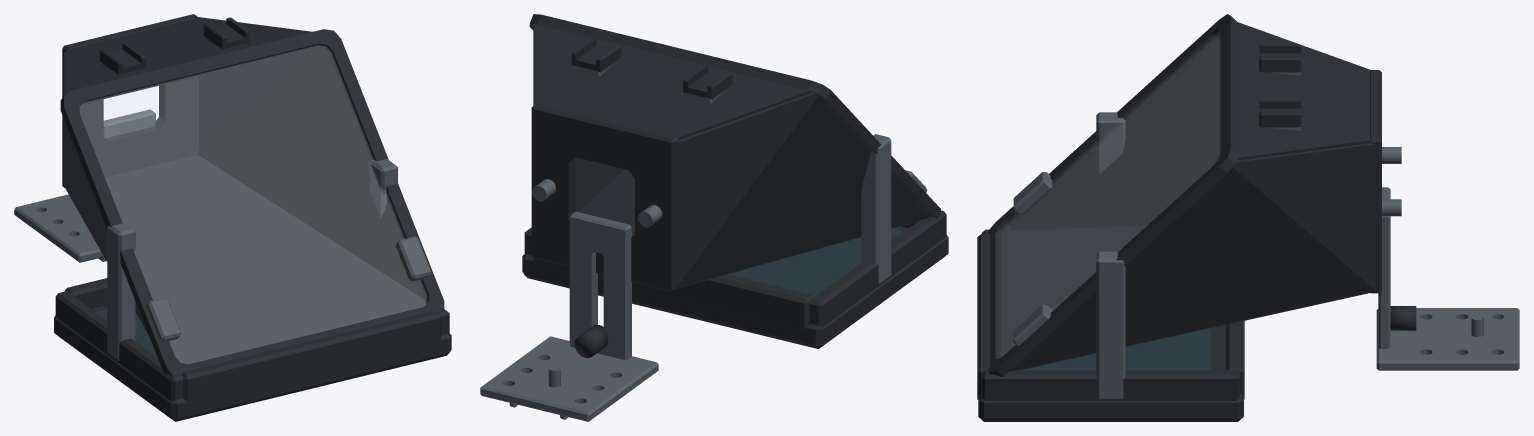
File: full.glb
3 renders of one model, left to right at view 1: azimuth 30°, elevation 25°; view 2: azimuth 150°, elevation 25°; view 3: azimuth 270°, elevation 25°, orthographic. The views are drawn at different scales.
Parts seen in each view (by area): view 1: Angled transparent panel, Hood lower return, Hood right wall, Angled glass border, Tray front rim, Rear camera aperture plate, Hood roof, Tray floor, Tray side rim -1, Camera shelf, Vertical tray support -1, Hood left wall (+8 smaller); view 2: Hood left wall, Rear camera aperture plate, Hood roof, Camera shelf, Slotted vertical camera bracket, Tray floor, Tray rear rim, Angled glass border, Tray side rim -1, Blank recessed screen, Vertical tray support -1, Hood lower return (+4 smaller); view 3: Hood right wall, Angled transparent panel, Hood left wall, Angled glass border, Hood roof, Hood lower return, Camera shelf, Tray side rim 1, Tray floor, Vertical tray support 1, Blank recessed screen, Tray front rim (+9 smaller).
Part boxes in pixels (bbox=[...]): Angled transparent panel: bbox=[80, 45, 426, 363]; Hood lower return: bbox=[105, 155, 425, 364]; Hood right wall: bbox=[198, 47, 425, 299]; Angled glass border: bbox=[60, 29, 444, 376]; Tray front rim: bbox=[182, 311, 441, 405]; Rear camera aperture plate: bbox=[62, 14, 198, 187]; Hood roof: bbox=[66, 17, 312, 93]; Tray floor: bbox=[54, 305, 451, 421]; Tray side rim -1: bbox=[55, 291, 183, 401]; Camera shelf: bbox=[14, 194, 103, 262]; Vertical tray support -1: bbox=[107, 221, 135, 360]; Hood left wall: bbox=[64, 51, 148, 335]; Hood left wall: bbox=[676, 92, 930, 287]; Rear camera aperture plate: bbox=[531, 102, 678, 291]; Hood roof: bbox=[536, 24, 811, 139]; Camera shelf: bbox=[480, 336, 658, 421]; Slotted vertical camera bracket: bbox=[569, 211, 631, 359]; Tray floor: bbox=[522, 226, 948, 348]; Tray rear rim: bbox=[534, 258, 813, 331]; Angled glass border: bbox=[529, 14, 940, 218]; Tray side rim -1: bbox=[810, 210, 946, 326]; Blank recessed screen: bbox=[728, 228, 903, 297]; Vertical tray support -1: bbox=[861, 134, 891, 283]; Hood lower return: bbox=[579, 169, 918, 287]; Hood right wall: bbox=[1008, 143, 1375, 371]; Angled transparent panel: bbox=[1000, 34, 1219, 357]; Hood left wall: bbox=[1010, 39, 1220, 230]; Angled glass border: bbox=[988, 14, 1238, 376]; Hood roof: bbox=[1237, 22, 1372, 160]; Hood lower return: bbox=[998, 226, 1370, 370]; Camera shelf: bbox=[1376, 308, 1519, 370]; Tray side rim 1: bbox=[982, 370, 1239, 400]; Tray floor: bbox=[978, 325, 1243, 421]; Vertical tray support 1: bbox=[1096, 251, 1125, 399]; Blank recessed screen: bbox=[1021, 328, 1211, 370]; Tray front rim: bbox=[977, 234, 990, 399].
Size of the model in its own units: 0.227 by 0.193 by 0.349.
